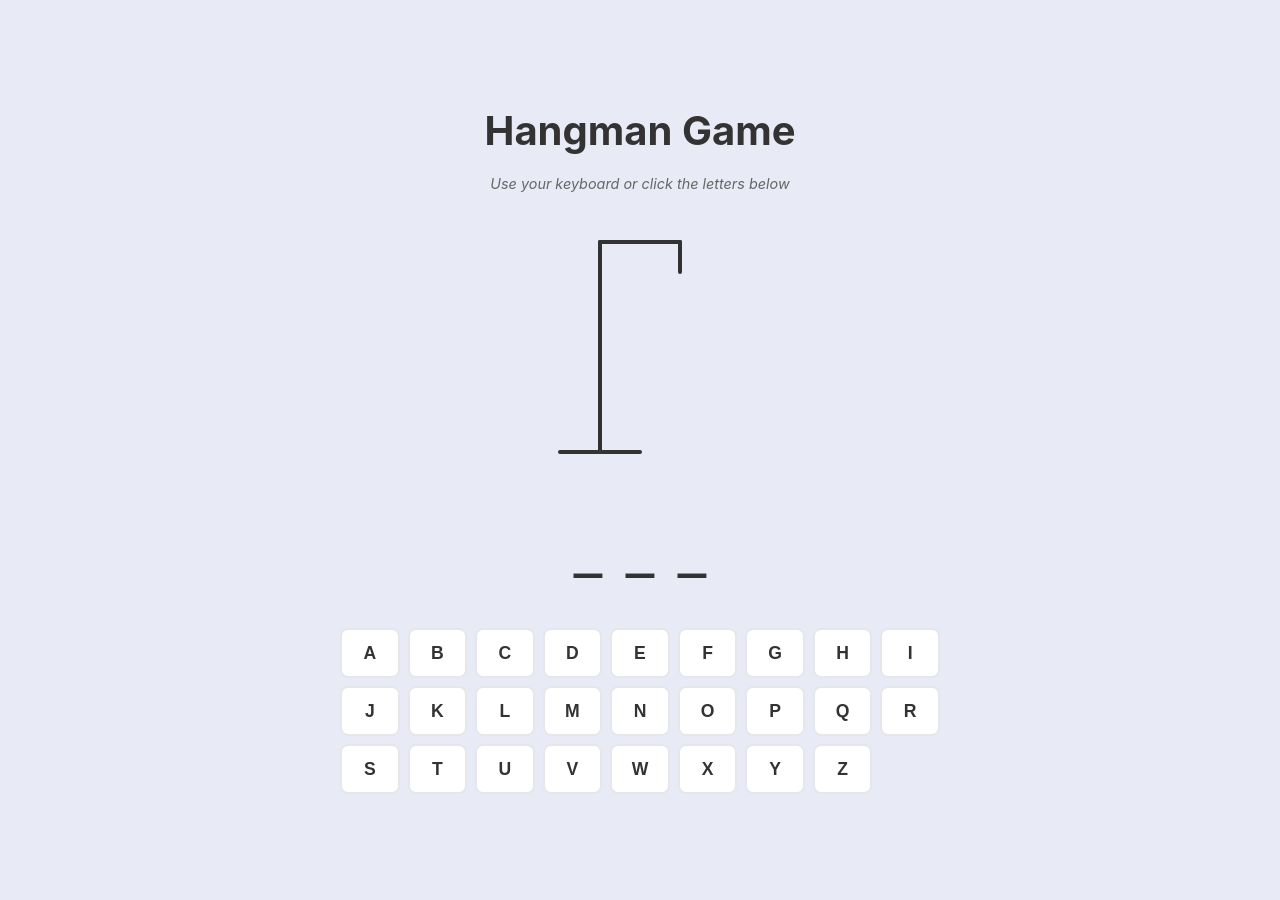
Test: Hangman Game Integration › should complete a winning game flow
The width and height of the screenshot is (1280, 900).
Expected: the heading "Hangman Game" is shown, [484, 106, 796, 155]
Expected: the text "you won" is not shown
// Guess correct letters: C, A, T
Step 1. Click the button named "Letter C" → (505, 653), box [475, 628, 535, 678]
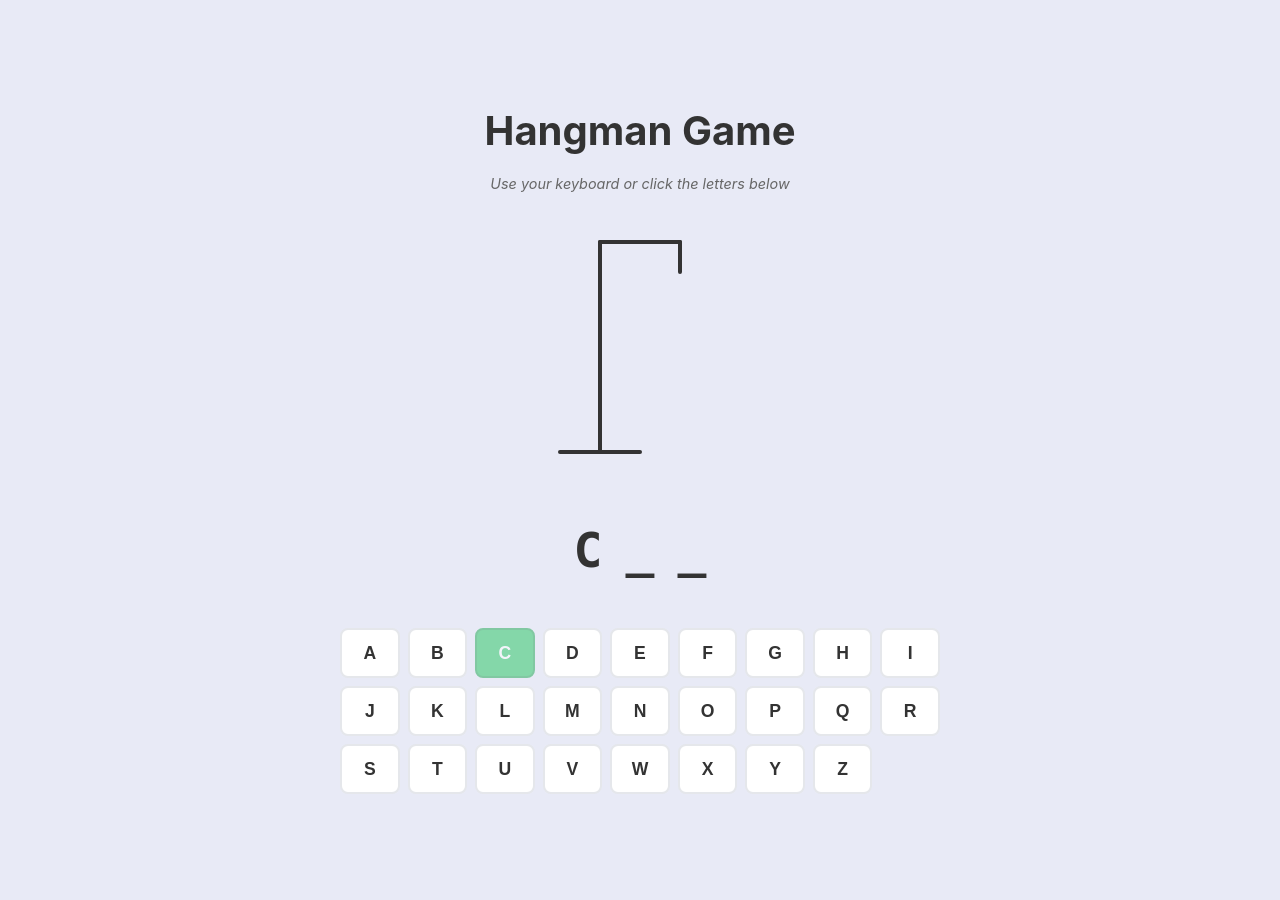
Step 2. Click the button named "Letter A" → (370, 653), box [340, 628, 400, 678]
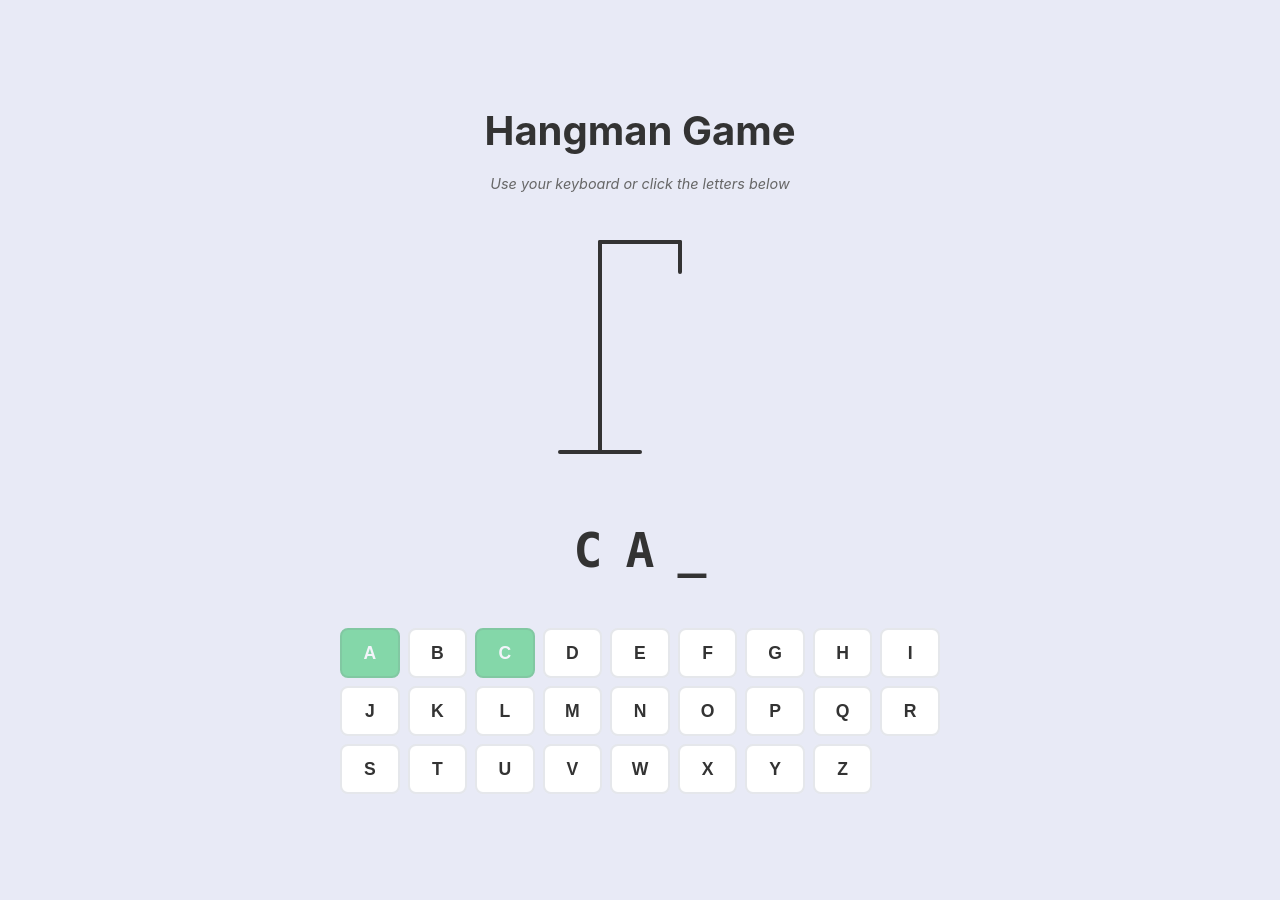
Step 3. Click the button named "Letter T" → (437, 769), box [408, 744, 467, 794]
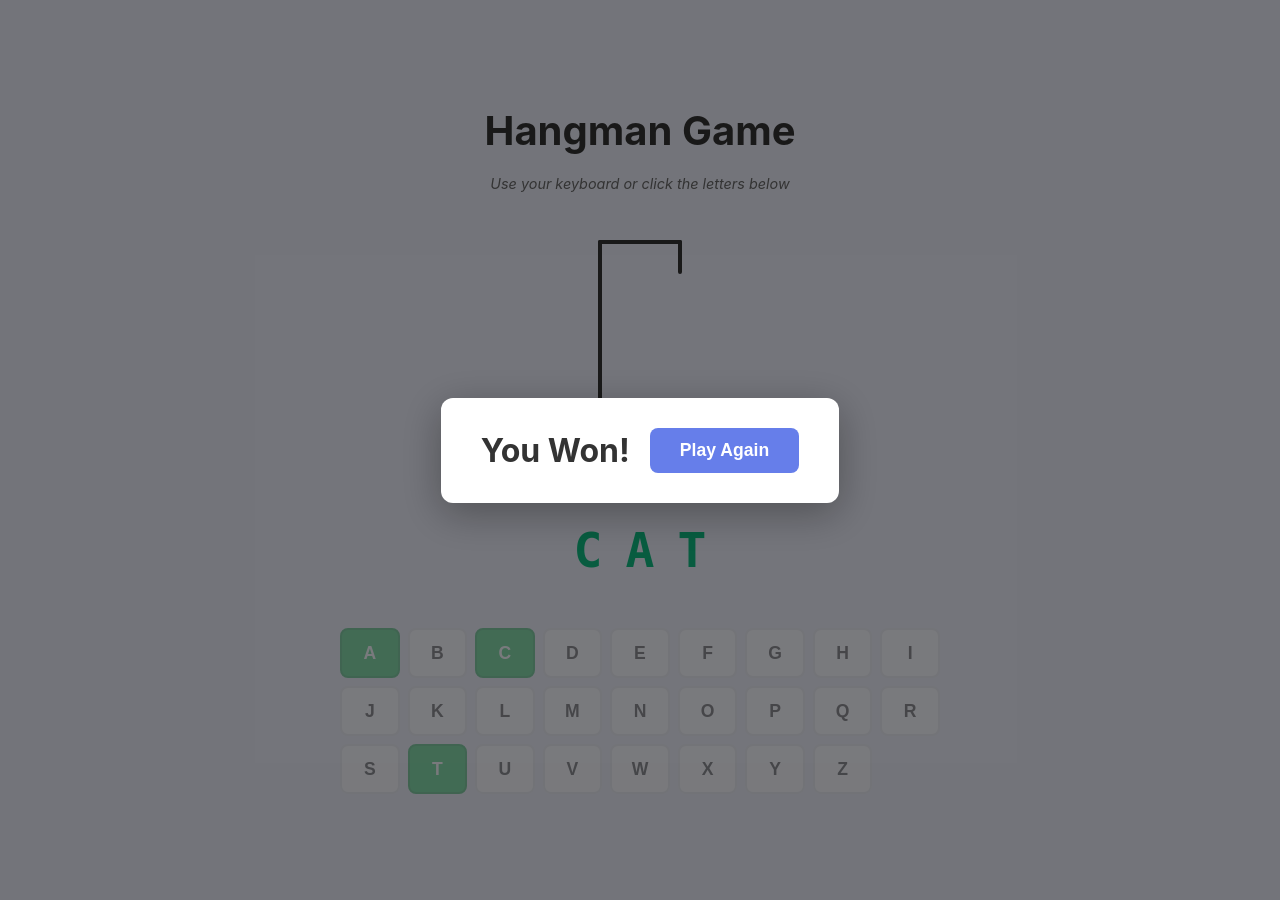
Now the heading "You Won!" is shown, box [481, 430, 630, 470]
Now the button with aria-label "start a new game" is shown, box [650, 428, 799, 472]
